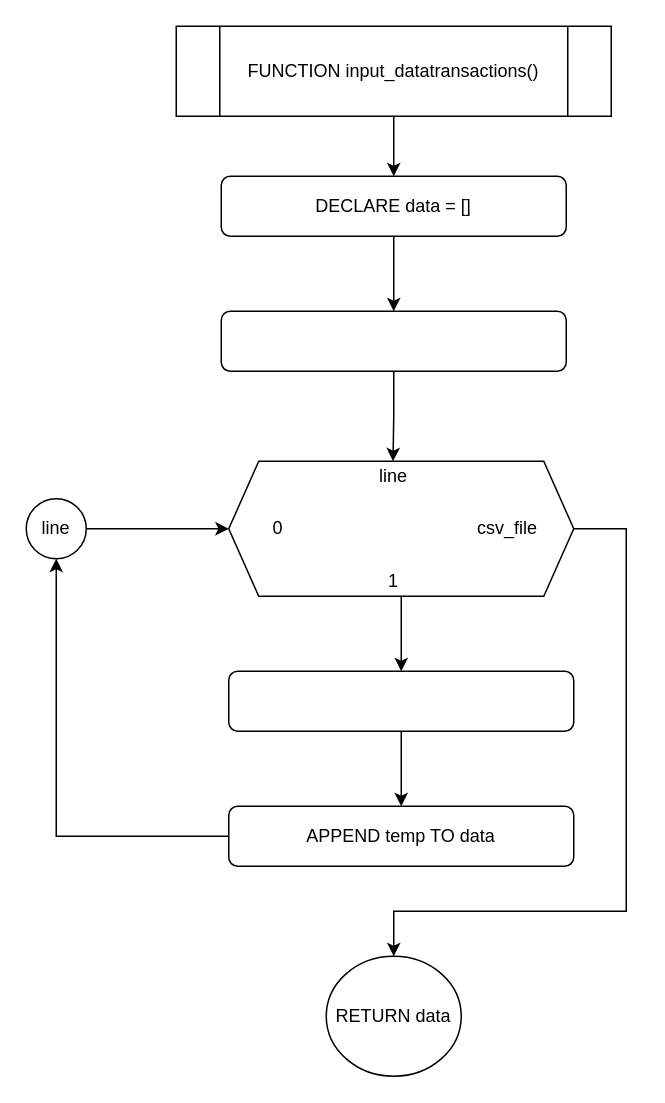
Some shapes in this 665 by 1103 pixel diagram are drawn without their labels. Each missing label, with the centre of its shape:
temp = line.strip().split(","): point 400,700
WITH OPEN("./data/transactions.txt") AS csv_file:: point 393,340
